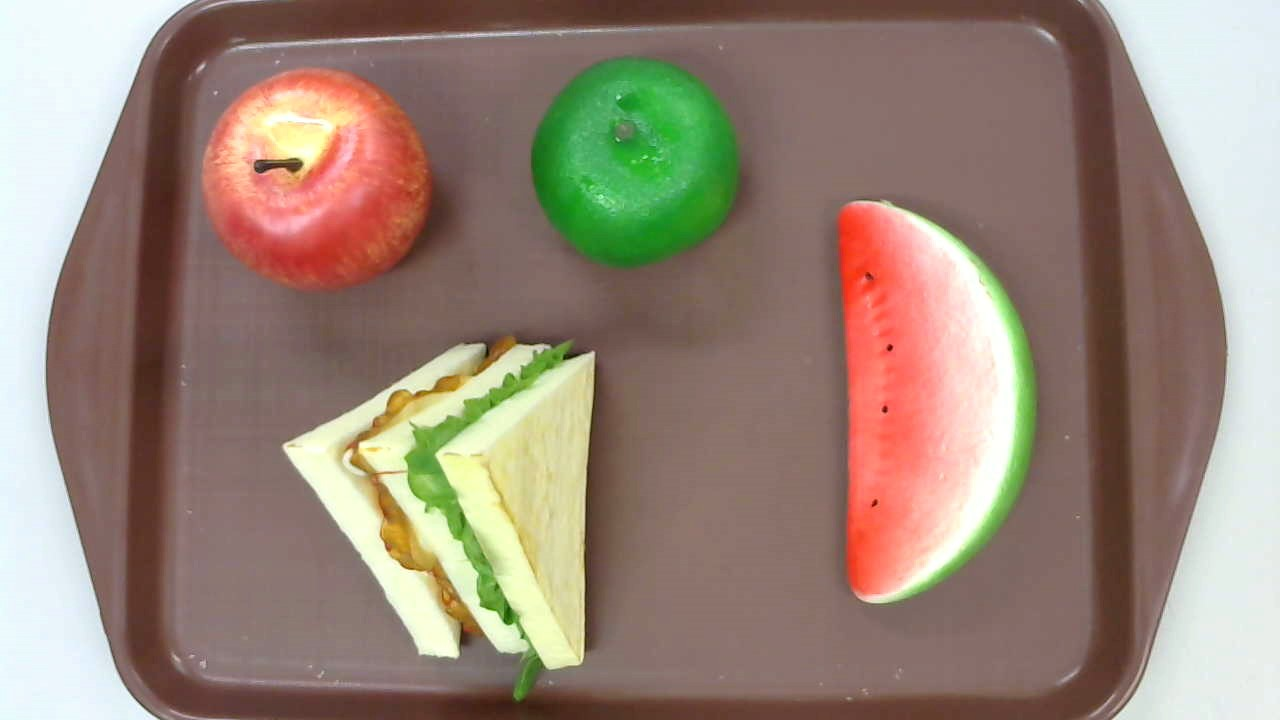green orange: (531, 56, 740, 269)
red apple: (200, 67, 431, 292)
sandwich: (281, 337, 597, 701)
water melon: (838, 197, 1038, 606)
